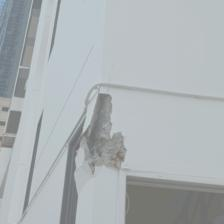High: (69, 79, 137, 216)
